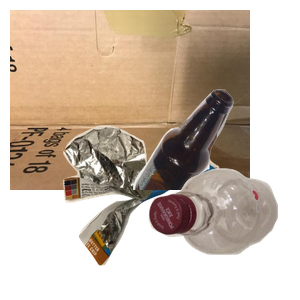cardboard: (10, 10, 250, 190)
glass: (130, 87, 300, 267)
plastic: (146, 166, 300, 300)
trash: (61, 123, 273, 300)
